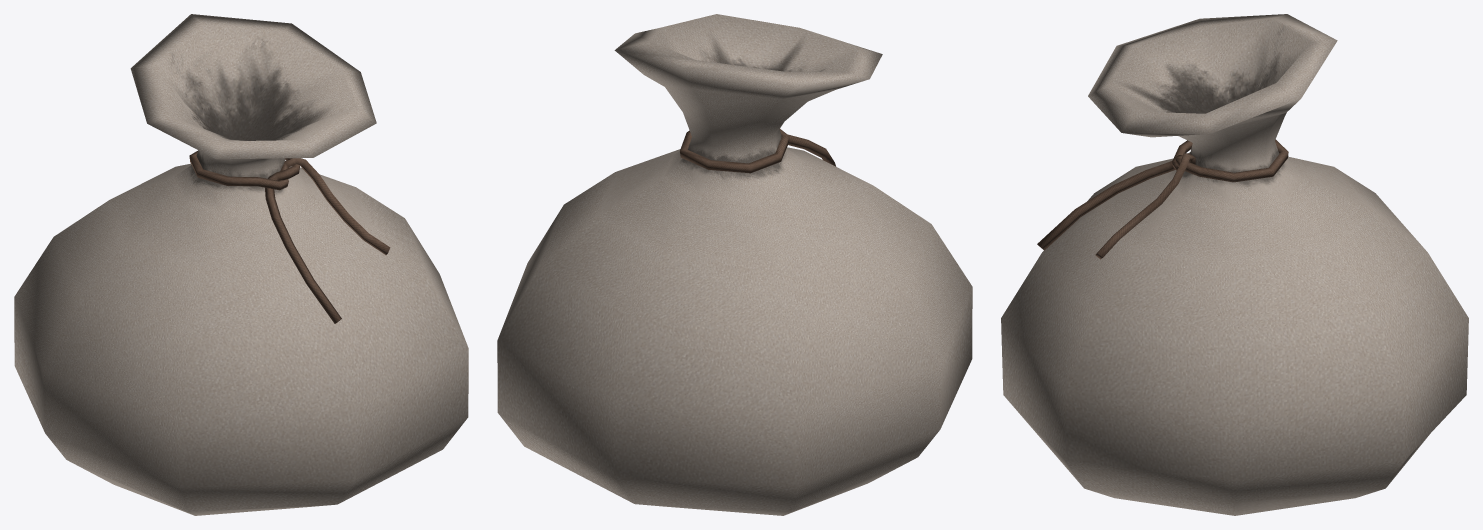
The model's file is bag_lowpoly.fbx.
3 views of the same model, side by side, from view 1: azimuth 30°, elevation 25°; view 2: azimuth 150°, elevation 25°; view 3: azimuth 270°, elevation 25° (orthographic). The views are drawn at different scales.
Visible parts, largest first — view 1: bag.lowpoly; view 2: bag.lowpoly; view 3: bag.lowpoly.
Boxes of the visible parts, left/top/right/bottom form: bag.lowpoly: left=14, top=14, right=468, bottom=515; bag.lowpoly: left=497, top=14, right=972, bottom=515; bag.lowpoly: left=1001, top=14, right=1468, bottom=515.
Bounding box in the file's own units: 55.8 × 56.4 × 55.8.
